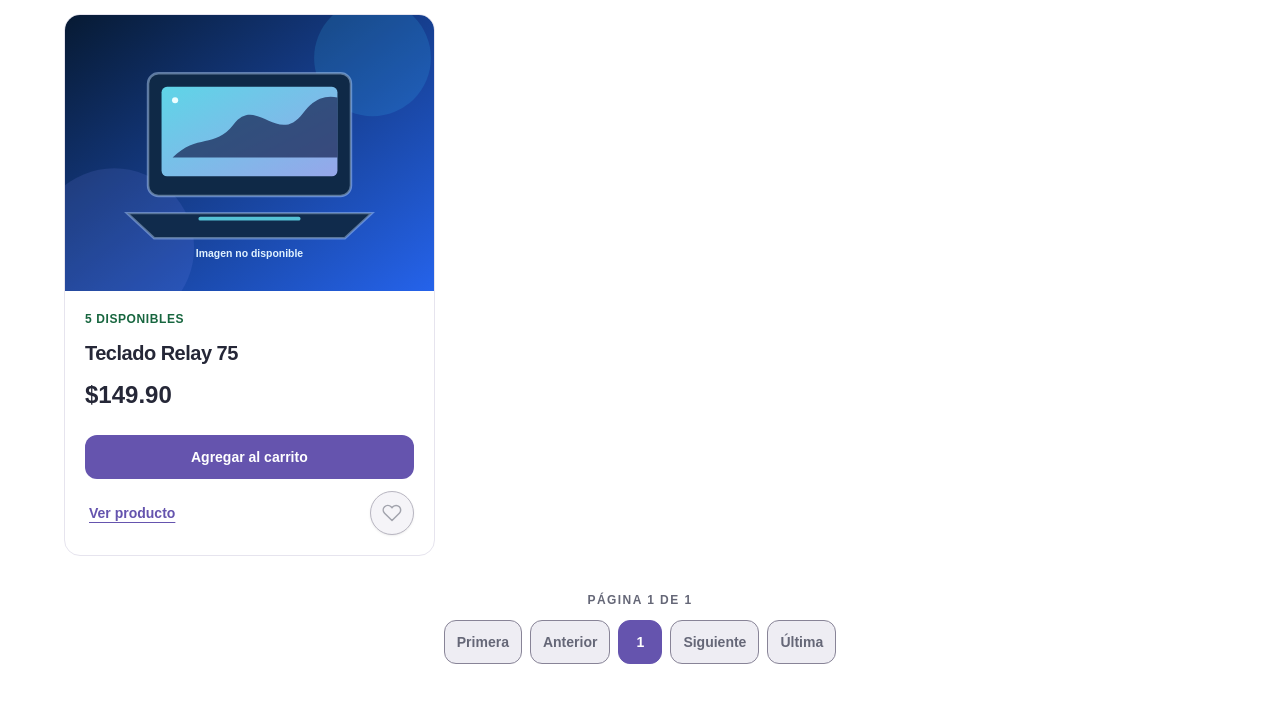
Scenario: customer wishlist UI › revalidates a wish when stock changes and does not remove or navigate
(page scrolled)
Click the button with aria-label "Agregar Teclado Relay 75 al carrito desde deseos". click: (249, 457)
box: [85,435,414,479]
(page scrolled)
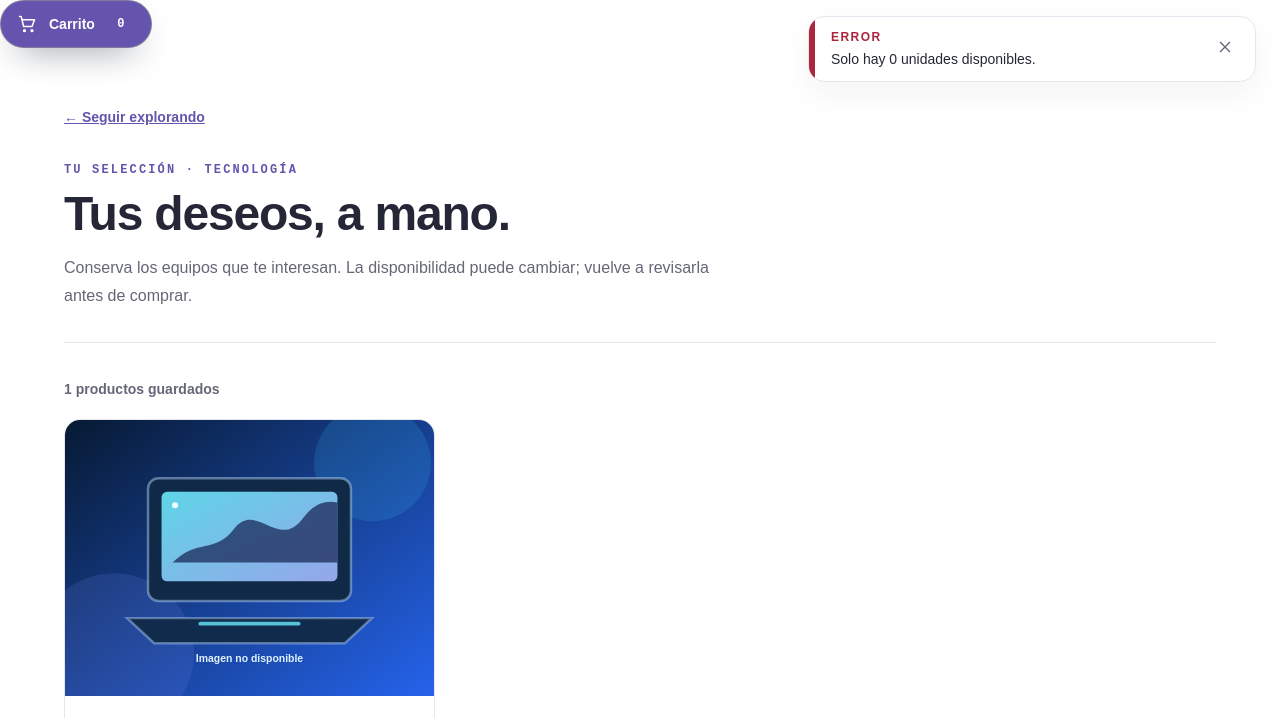
Expected: the link with aria-label "Ver carrito, 0 unidades" is shown, [0,0,152,48]
Now the text "Solo hay 0 unidades disponibles." is shown, box [831,51,1036,67]
